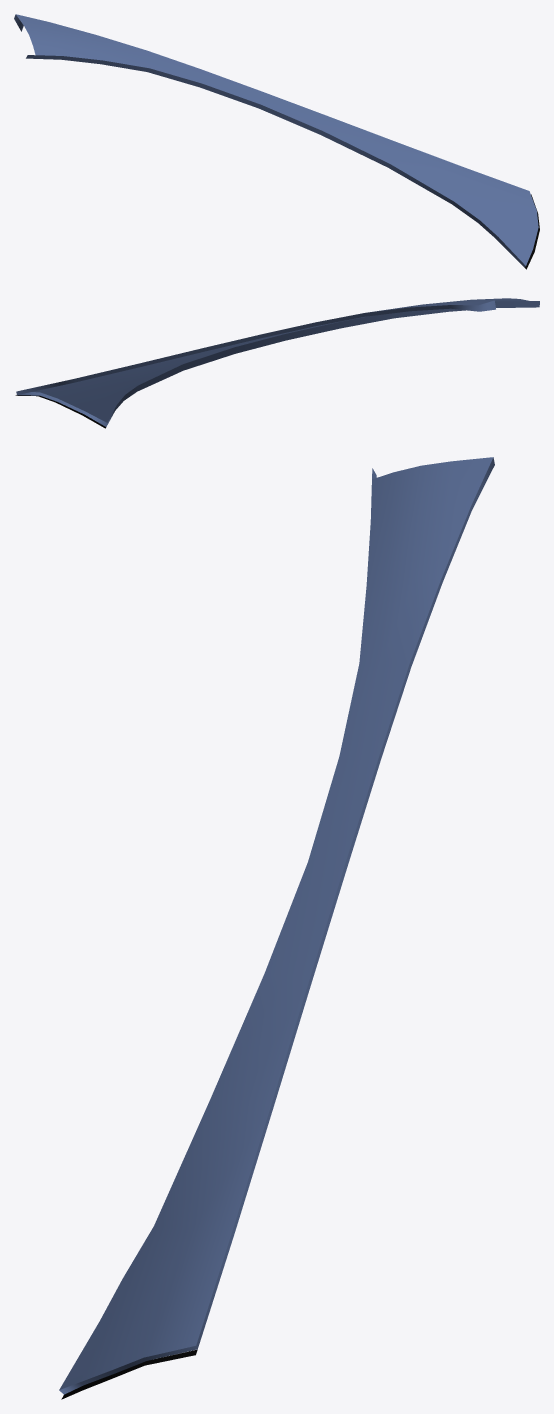
3 views of the same model, one above another, from view 1: azimuth 30°, elevation 25°; view 2: azimuth 150°, elevation 25°; view 3: azimuth 270°, elevation 25° (orthographic). The views are drawn at different scales.
Parts seen in each view (by area): view 1: U236_17_181C_R_U236_17_181C_R_1_DaS, U236_17_181C_R_U236_17_181C_R_1_DaS_E; view 2: U236_17_181C_R_U236_17_181C_R_1_DaS_E, U236_17_181C_R_U236_17_181C_R_1_DaS, U236_17_181C_R_2_D_U236_17_181C_R; view 3: U236_17_181C_R_U236_17_181C_R_1_DaS, U236_17_181C_R_U236_17_181C_R_1_DaS_E.
Boxes of the visible parts, left/top/right/bottom form: U236_17_181C_R_U236_17_181C_R_1_DaS: left=16, top=14, right=538, bottom=265; U236_17_181C_R_U236_17_181C_R_1_DaS_E: left=14, top=14, right=525, bottom=267; U236_17_181C_R_U236_17_181C_R_1_DaS_E: left=16, top=300, right=539, bottom=426; U236_17_181C_R_U236_17_181C_R_1_DaS: left=32, top=298, right=528, bottom=422; U236_17_181C_R_2_D_U236_17_181C_R: left=15, top=395, right=106, bottom=428; U236_17_181C_R_U236_17_181C_R_1_DaS: left=59, top=457, right=493, bottom=1389; U236_17_181C_R_U236_17_181C_R_1_DaS_E: left=59, top=457, right=494, bottom=1394.
Bounding box in the file's own units: 66.03 × 37.66 × 27.07.
